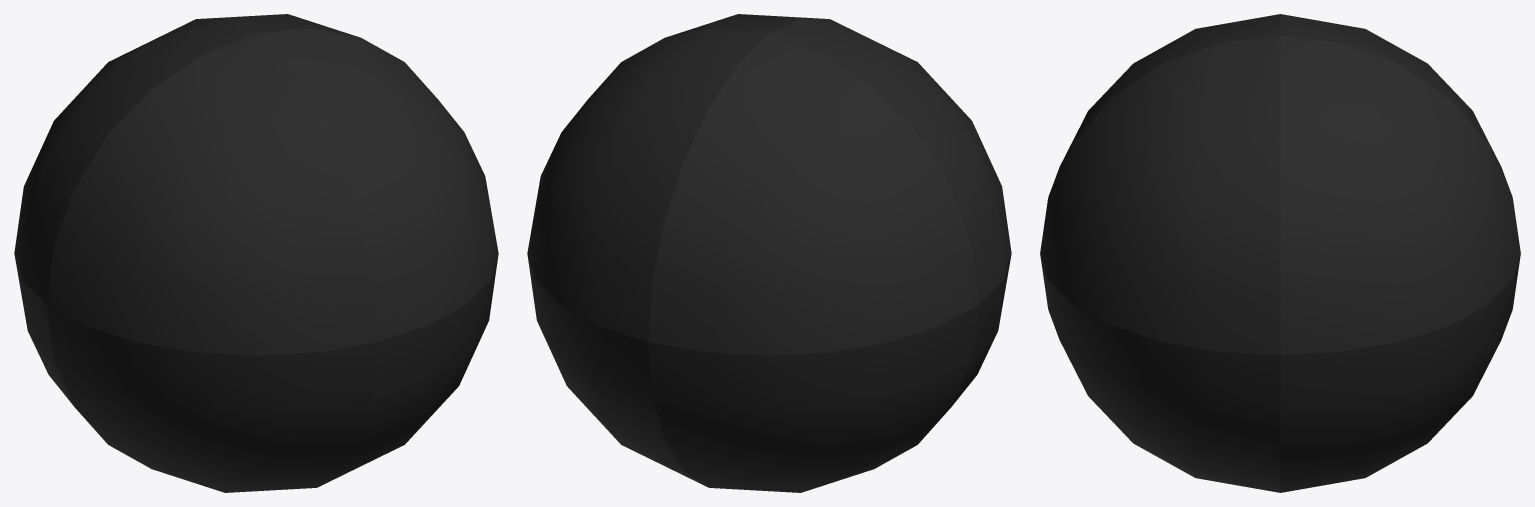
Rendered from cannonball.obj.
3 renders of one model, left to right at view 1: azimuth 30°, elevation 25°; view 2: azimuth 150°, elevation 25°; view 3: azimuth 270°, elevation 25°, orthographic.
Visible parts, largest first — view 1: SketchUp_ID3; view 2: SketchUp_ID3; view 3: SketchUp_ID3.
Boxes of the visible parts, x1,y1,x2,y2 form: SketchUp_ID3: [14, 14, 498, 492]; SketchUp_ID3: [527, 14, 1011, 492]; SketchUp_ID3: [1040, 14, 1520, 492].
Bounding box in the file's own units: 0.528 × 0.528 × 0.528.
